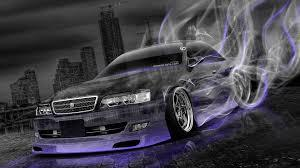smoke: (105, 1, 300, 105)
